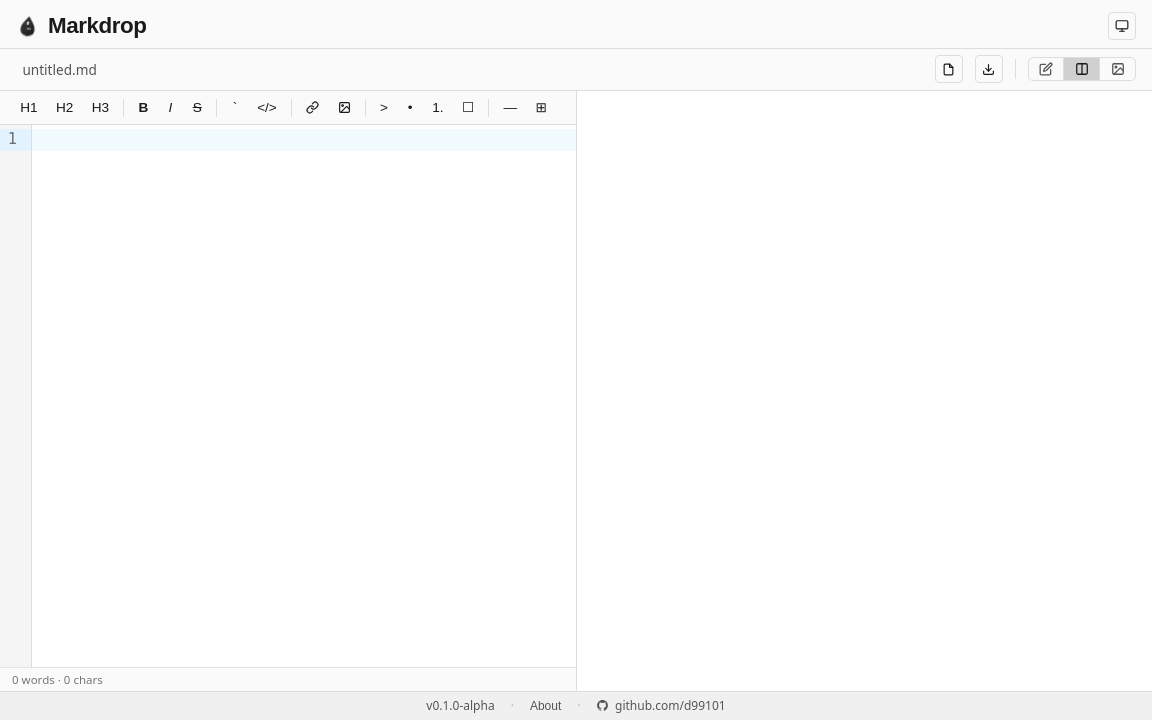
App › shows about dialog when About is clicked
What coordinates should you click on to do the following:
click the button "About"
I would click on:
 (546, 706)
Its box is [530,699,561,713].
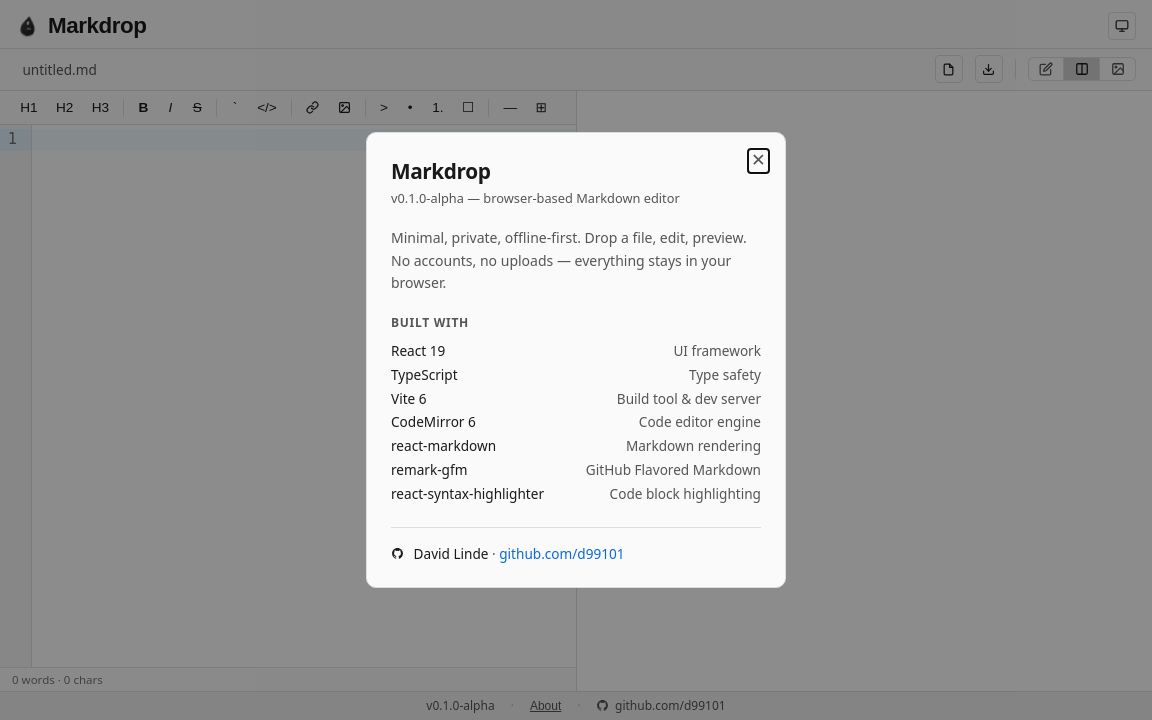
Now the text "Built with" is shown, box [391,314,469,331]
